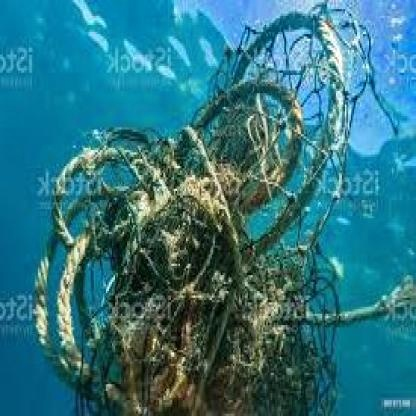net: (36, 9, 344, 416)
